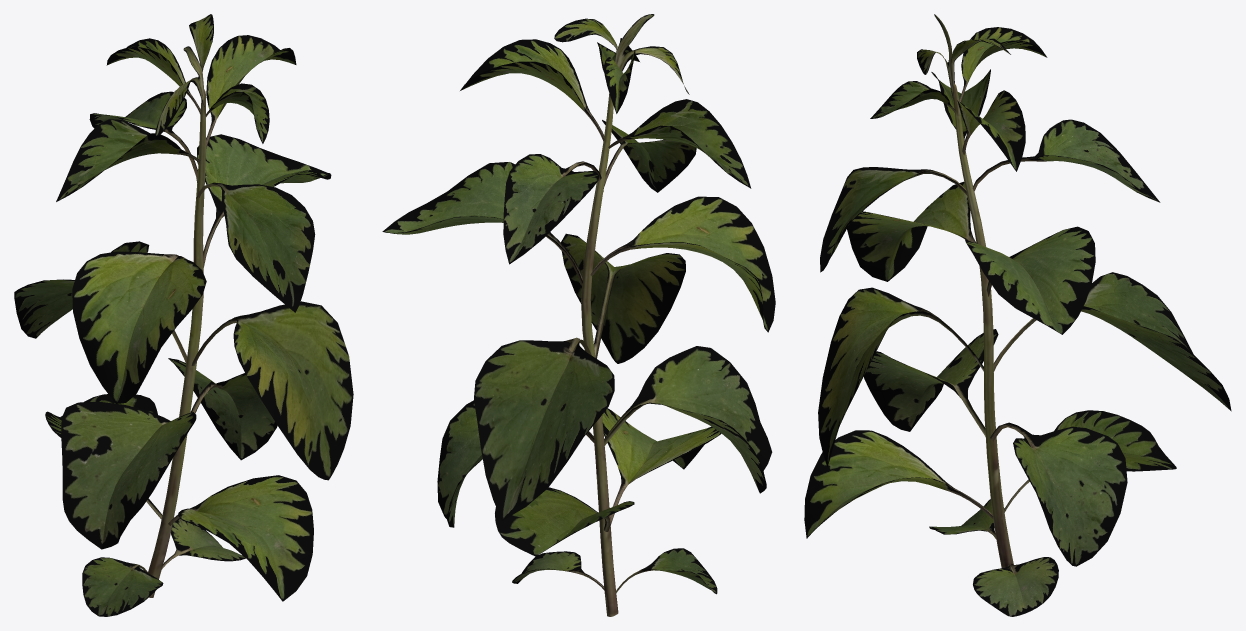
The model's file is nettle_plant_medium_a.gltf.
The picture shows the model from 3 angles, left to right: view 1: azimuth 30°, elevation 25°; view 2: azimuth 150°, elevation 25°; view 3: azimuth 270°, elevation 25°; orthographic projection.
Visible parts, largest first — view 1: nettle_plant_medium_a_LOD0; view 2: nettle_plant_medium_a_LOD0; view 3: nettle_plant_medium_a_LOD0.
Boxes of the visible parts, x1,y1,x2,y2 form: nettle_plant_medium_a_LOD0: [14, 14, 353, 616]; nettle_plant_medium_a_LOD0: [382, 14, 775, 616]; nettle_plant_medium_a_LOD0: [804, 14, 1231, 616].
Size of the model in its own units: 0.0773 by 0.1315 by 0.0891.
Materials: 1 (1 with a texture image).
